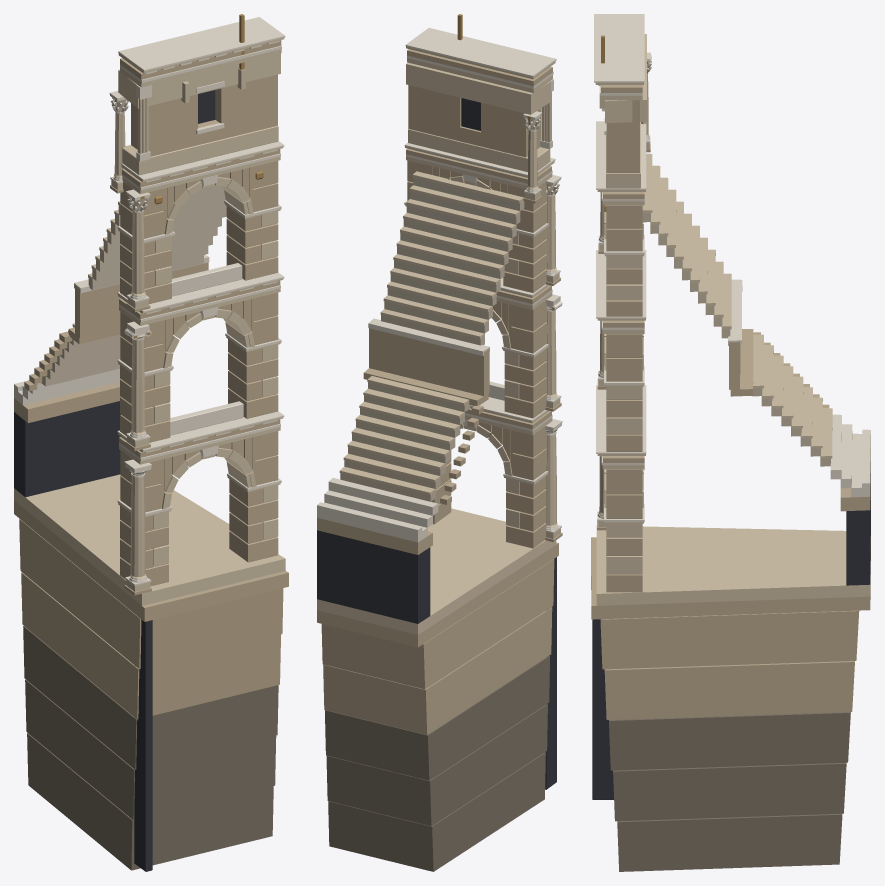
Rendered from UMOD_01_Standard_Window_Bay.fbx.
The picture shows the model from 3 angles, left to right: view 1: azimuth 30°, elevation 25°; view 2: azimuth 150°, elevation 25°; view 3: azimuth 270°, elevation 25°; orthographic projection. The views are drawn at different scales.
Parts seen in each view (by area): view 1: UMOD_01_Standard_Window_Bay; view 2: UMOD_01_Standard_Window_Bay; view 3: UMOD_01_Standard_Window_Bay.
Boxes of the visible parts, box(x1,y1,x2,y2) form: UMOD_01_Standard_Window_Bay: box(14, 14, 288, 871); UMOD_01_Standard_Window_Bay: box(317, 14, 562, 871); UMOD_01_Standard_Window_Bay: box(591, 14, 870, 871).
Size of the model in its own units: 18.44 by 96.54 by 29.96.
